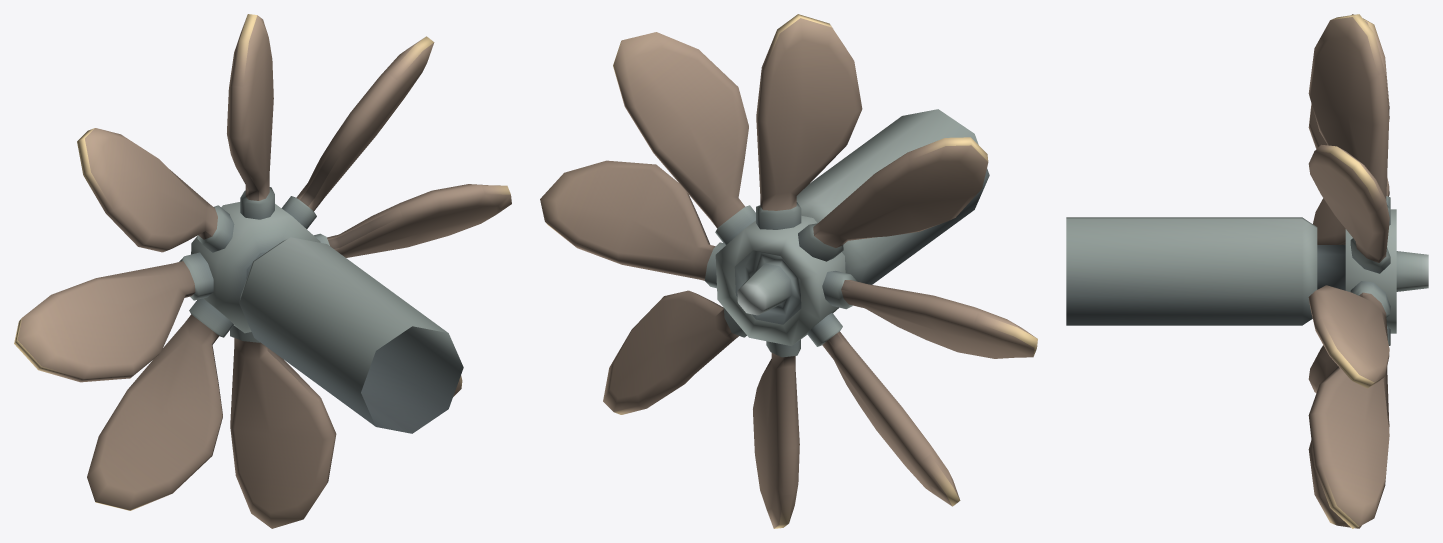
Rendered from propellerTop.fbx.
The picture shows the model from 3 angles, left to right: view 1: azimuth 30°, elevation 25°; view 2: azimuth 150°, elevation 25°; view 3: azimuth 270°, elevation 25°; orthographic projection. The views are drawn at different scales.
Visible parts, largest first — view 1: propellerTop; view 2: propellerTop; view 3: propellerTop.
Boxes of the visible parts, x1,y1,x2,y2 form: propellerTop: (14, 14, 511, 528); propellerTop: (540, 14, 1037, 528); propellerTop: (1066, 14, 1428, 528).
Bounding box in the file's own units: 384 × 384 × 252.
